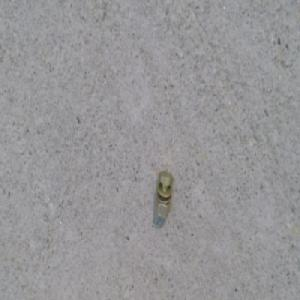BoltNutSet: (154, 172, 171, 219)
